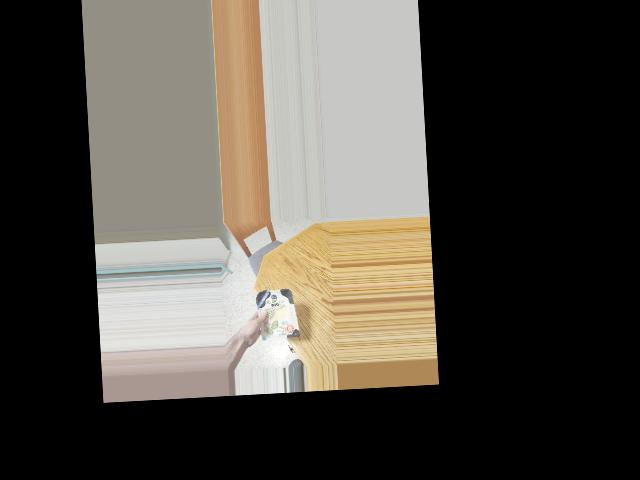cheese: (252, 282, 294, 350)
